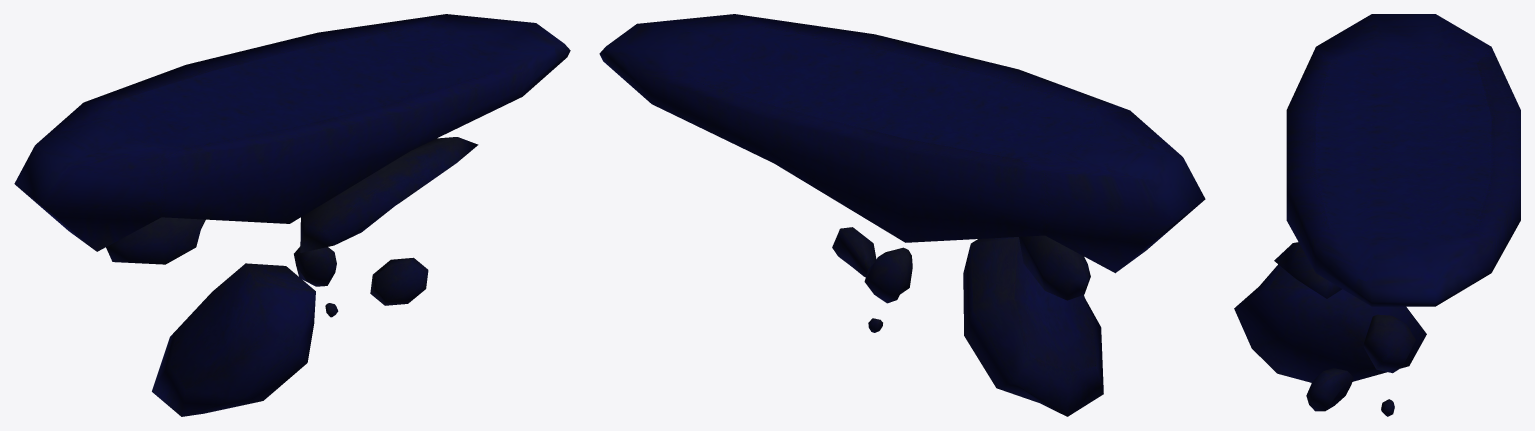
Rendered from escenario_object_hassle_(solo).fbx.
3 views of the same model, side by side, from view 1: azimuth 30°, elevation 25°; view 2: azimuth 150°, elevation 25°; view 3: azimuth 270°, elevation 25° (orthographic). The views are drawn at different scales.
Parts seen in each view (by area): view 1: Cube; view 2: Cube; view 3: Cube.
Boxes of the visible parts, left/top/right/bottom form: Cube: left=14, top=14, right=570, bottom=416; Cube: left=599, top=14, right=1205, bottom=416; Cube: left=1234, top=14, right=1520, bottom=416.
Bounding box in the file's own units: 7120 × 3443 × 2979.
